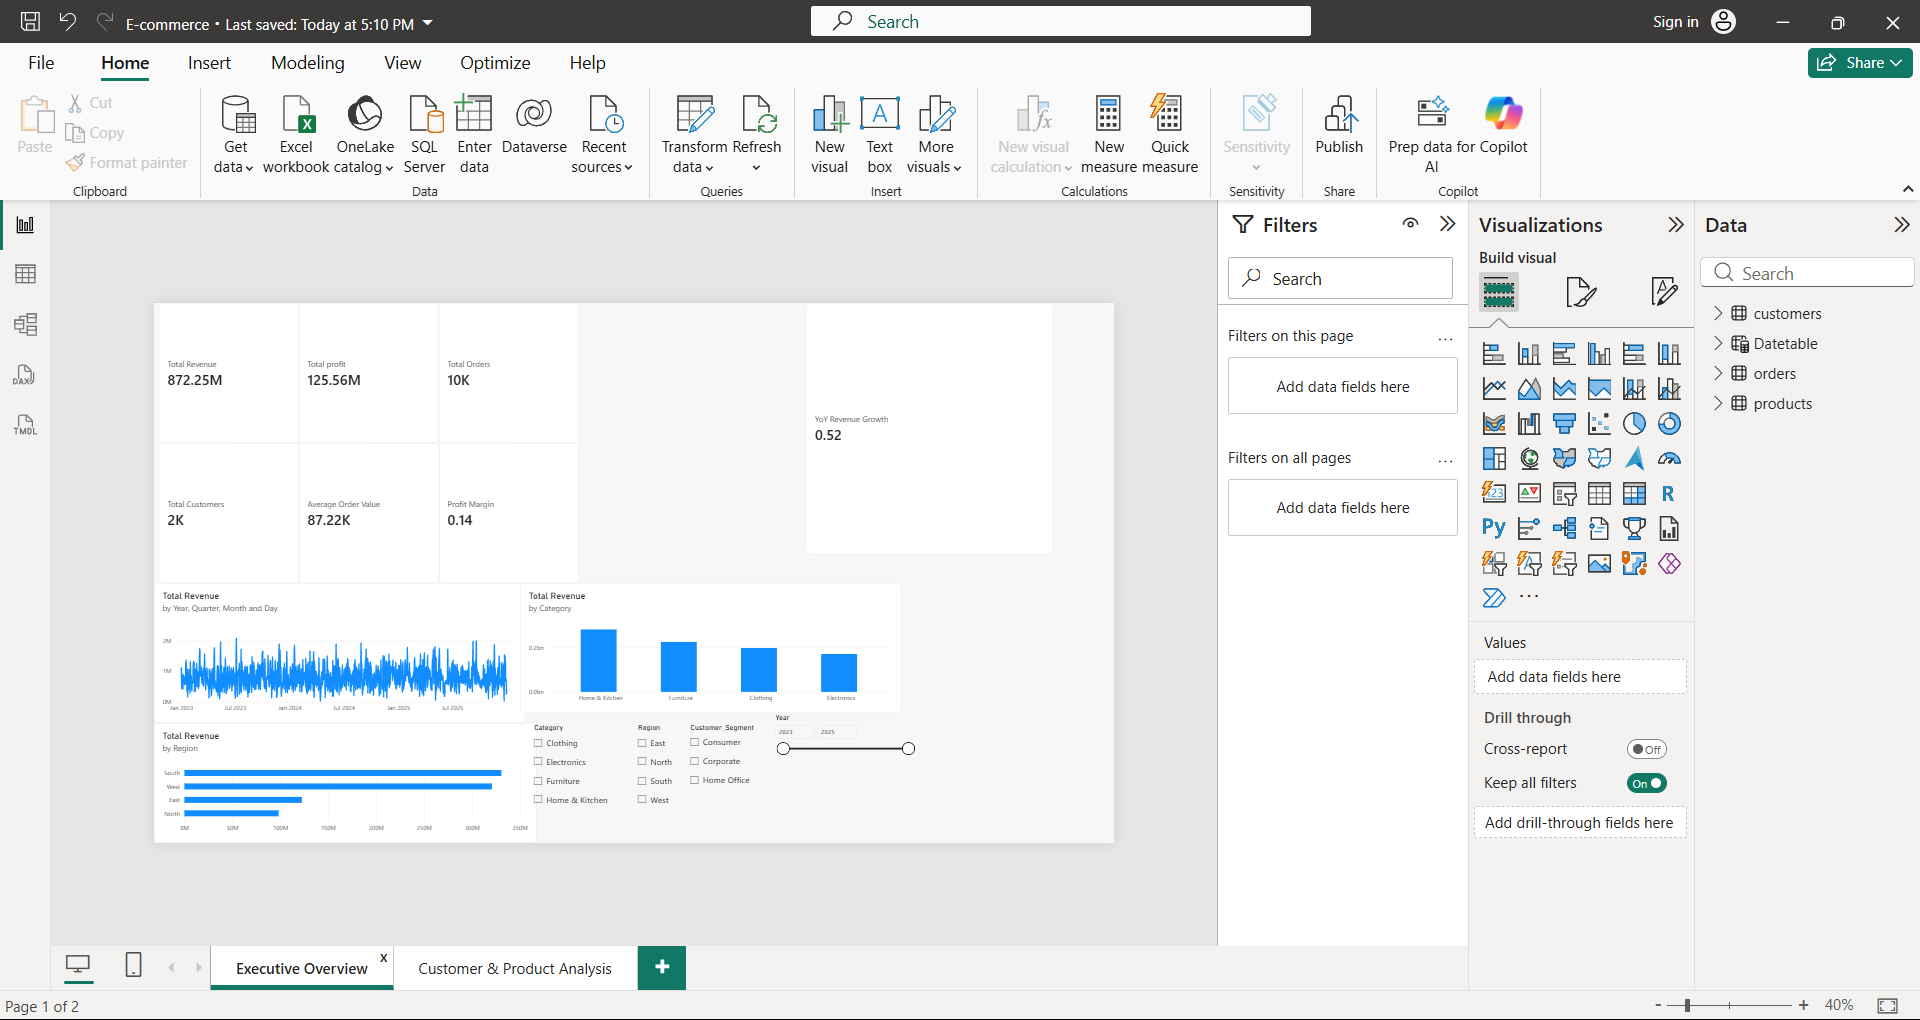

The dashboard page shown, as its layout file describes it:
{"tool":"powerbi","page":{"name":"Executive Overview","canvas":[1920,1080],"ordinal":0},"visuals":[{"type":"cardVisual","fields":{"Data":["orders.Total Revenue"]},"box":[10,0,280,280],"z":0},{"type":"cardVisual","fields":{"Data":["orders.Total Orders"]},"box":[570,0,280,280],"z":1},{"type":"cardVisual","fields":{"Data":["orders.Total profit"]},"box":[290,0,280,280],"z":2},{"type":"cardVisual","fields":{"Data":["orders.Total Customers"]},"box":[10,280,280,280],"z":3},{"type":"cardVisual","fields":{"Data":["orders.Profit Margin"]},"box":[570,280,280,280],"z":4},{"type":"cardVisual","fields":{"Data":["orders.Average Order Value"]},"box":[290,280,280,280],"z":5},{"type":"lineChart","fields":{"Category":["Datetable.Date.Variation.Date Hierarchy.Year","Datetable.Date.Variation.Date Hierarchy.Quarter","Datetable.Date.Variation.Date Hierarchy.Month","Datetable.Date.Variation.Date Hierarchy.Day"],"Y":["orders.Total Revenue"]},"box":[0,560,744.3,280],"z":6},{"type":"clusteredColumnChart","fields":{"Category":["products.Category"],"Y":["orders.Total Revenue"]},"box":[731.4,560,763.3,260],"z":7},{"type":"barChart","fields":{"Category":["customers.Region"],"Y":["orders.Total Revenue"]},"box":[0,840,765,240],"z":8},{"type":"slicer","fields":{"Values":["products.Category"]},"box":[752.9,840,195,170],"z":9},{"type":"slicer","fields":{"Values":["customers.Region"]},"box":[960,840,548,170],"z":10},{"type":"slicer","fields":{"Values":["customers.Customer_Segment"]},"box":[1065,840,203.3,160],"z":11},{"type":"cardVisual","fields":{"Data":["Datetable.YoY Revenue Growth"]},"box":[1305,0,492.5,502.5],"z":12},{"type":"slicer","fields":{"Values":["Datetable.Year"]},"box":[1235,820,290,260],"z":13}]}

Visuals, with their boxes on the page's 1920x1080 design canvas (x1, y1, x2, y2). These are canvas units, not pixel positions in the 1920x1020 screenshot, which may show the page scaled, cropped or inside an application window:
cardVisual - orders.Total Revenue: left=10, top=0, right=290, bottom=280
cardVisual - orders.Total Orders: left=570, top=0, right=850, bottom=280
cardVisual - orders.Total profit: left=290, top=0, right=570, bottom=280
cardVisual - orders.Total Customers: left=10, top=280, right=290, bottom=560
cardVisual - orders.Profit Margin: left=570, top=280, right=850, bottom=560
cardVisual - orders.Average Order Value: left=290, top=280, right=570, bottom=560
lineChart - Datetable.Date.Variation.Date Hierarchy.Year x Datetable.Date.Variation.Date Hierarchy.Quarter: left=0, top=560, right=744, bottom=840
clusteredColumnChart - products.Category x orders.Total Revenue: left=731, top=560, right=1495, bottom=820
barChart - customers.Region x orders.Total Revenue: left=0, top=840, right=765, bottom=1080
slicer - products.Category: left=753, top=840, right=948, bottom=1010
slicer - customers.Region: left=960, top=840, right=1508, bottom=1010
slicer - customers.Customer_Segment: left=1065, top=840, right=1268, bottom=1000
cardVisual - Datetable.YoY Revenue Growth: left=1305, top=0, right=1798, bottom=502
slicer - Datetable.Year: left=1235, top=820, right=1525, bottom=1080
